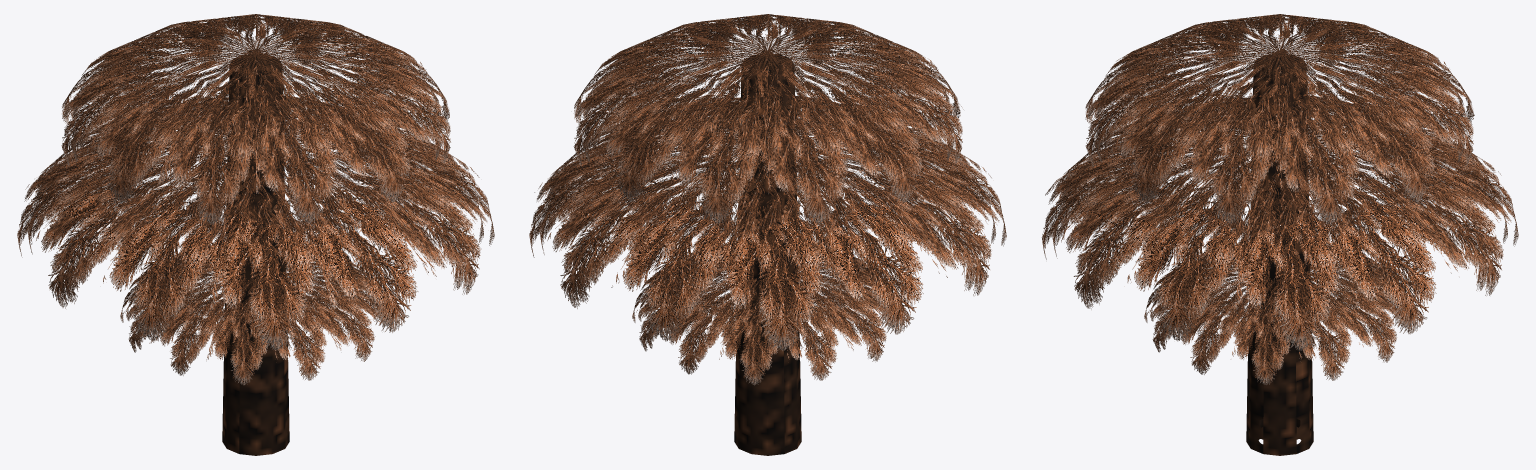
The model's file is tree_alien_1.dae.
3 views of the same model, side by side, from view 1: azimuth 30°, elevation 25°; view 2: azimuth 150°, elevation 25°; view 3: azimuth 270°, elevation 25° (orthographic).
Parts seen in each view (by area): view 1: tree_alien_1.001; view 2: tree_alien_1.001; view 3: tree_alien_1.001.
Boxes of the visible parts, <box> form: tree_alien_1.001: <box>17,14,494,455</box>; tree_alien_1.001: <box>529,14,1006,455</box>; tree_alien_1.001: <box>1041,14,1518,455</box>.
Bounding box in the file's own units: 14.76 × 14.76 × 13.12.
